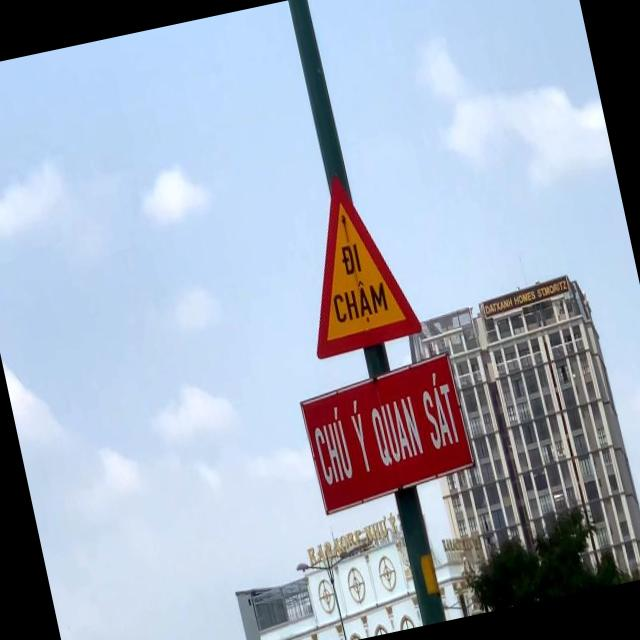W-245a: (281, 164, 424, 359)
